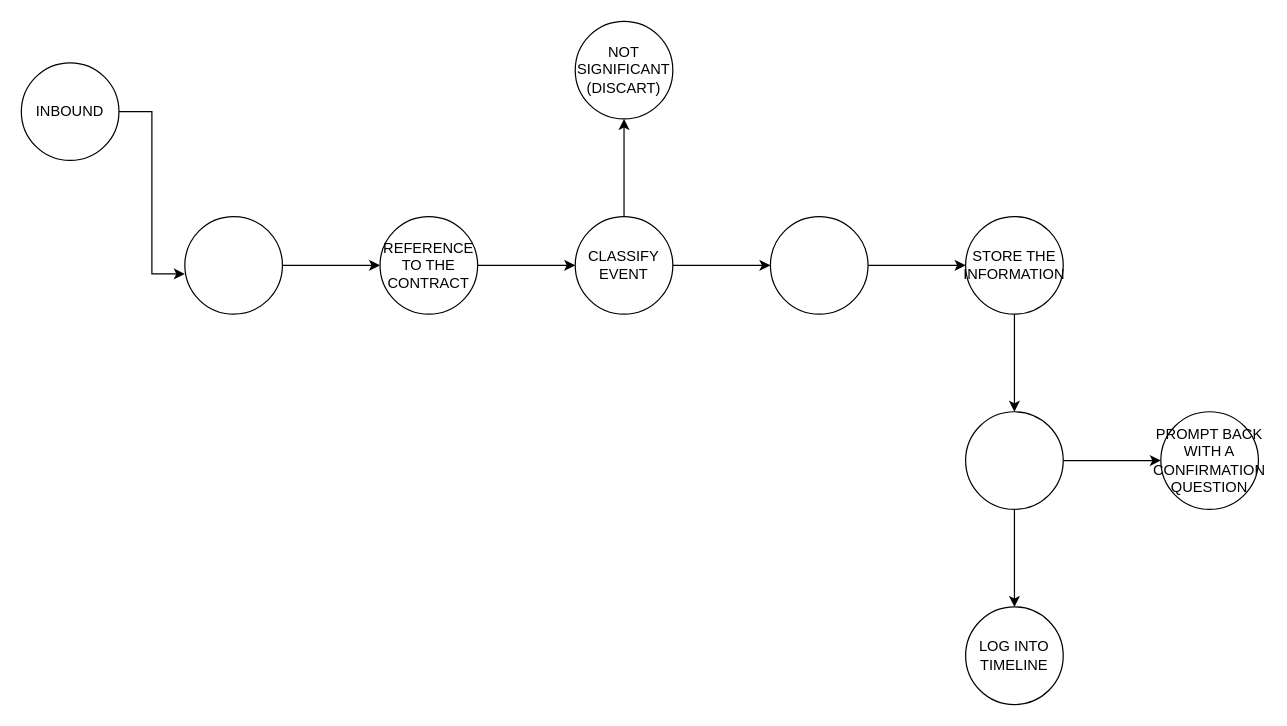
Some shapes in this 1287 by 726 pixel diagram are drawn without their labels. Each missing label, with the centre of its shape:
AI DIGEST: the point at 233,264
IT IS RELEVANT: the point at 818,264
SUMMARIZE RISKS WITH RECOMMENDED ACTION: the point at 1013,460
